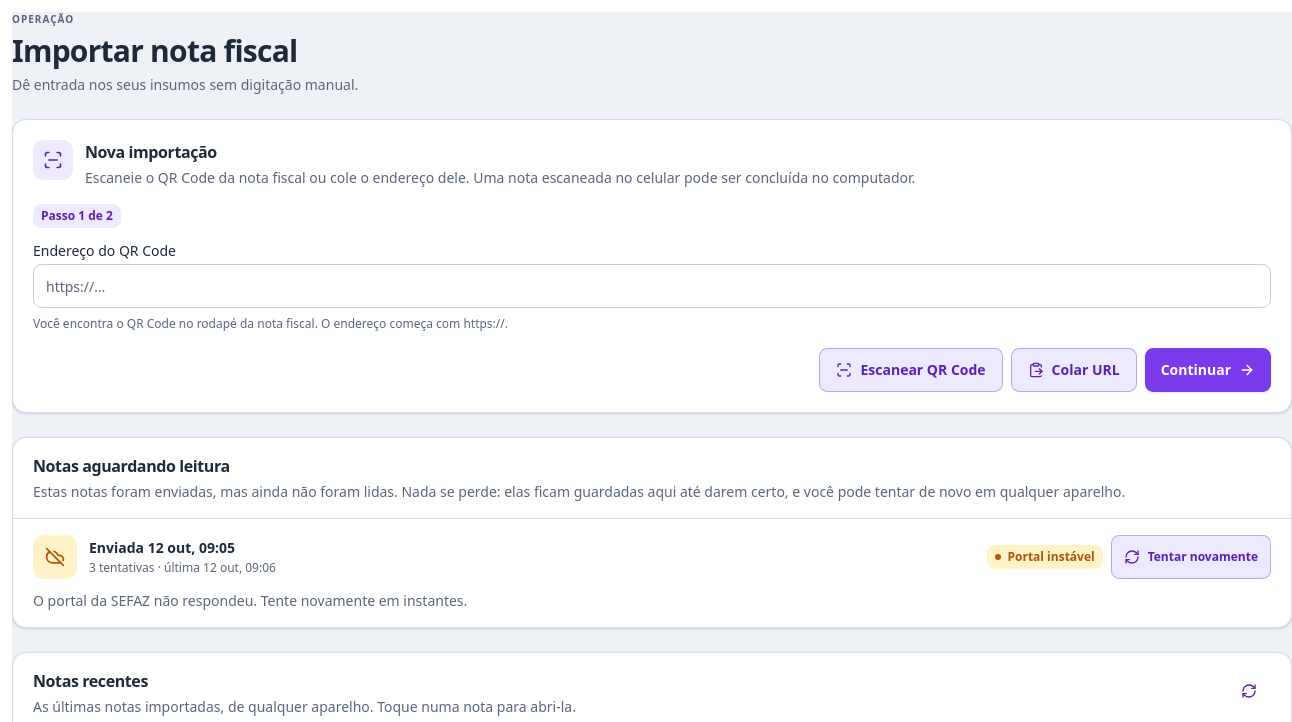
Scenario: trying again › keeps the note and says the portal is still down, without a code to report
Click the button "Tentar novamente": (1191, 557) [1111, 535, 1271, 579]
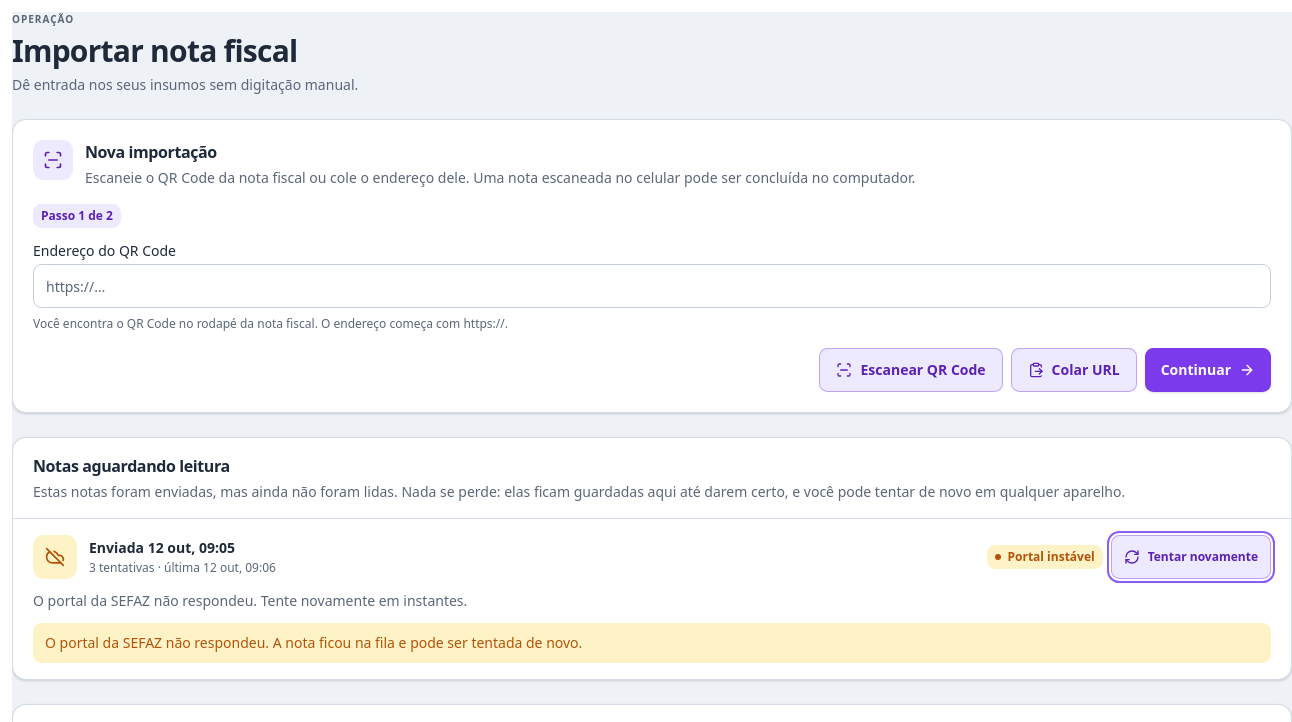
Now the text "A nota ficou na fila e pode ser tentada de novo" is shown, box [45, 633, 582, 652]
